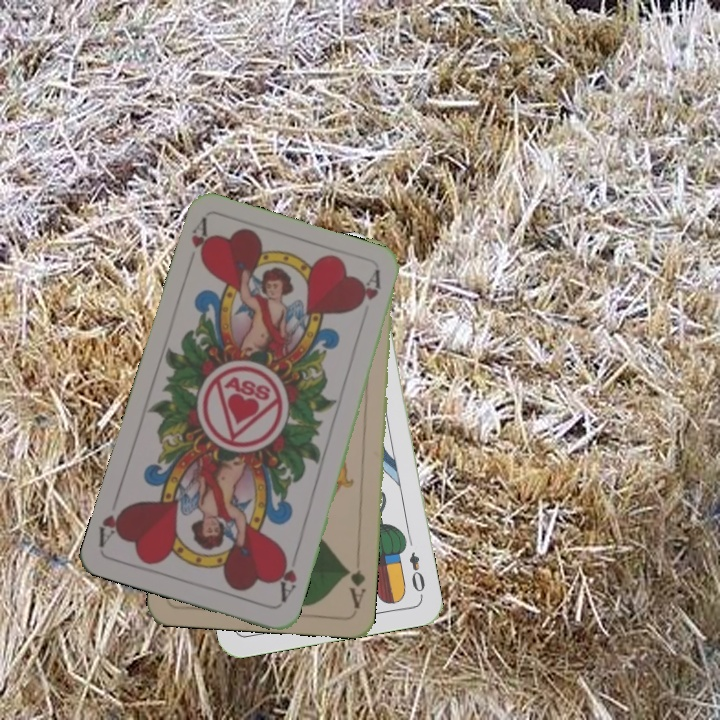EO: (405, 548, 428, 600)
GA: (342, 564, 368, 611)
HA: (273, 548, 301, 605), (187, 215, 215, 267)
